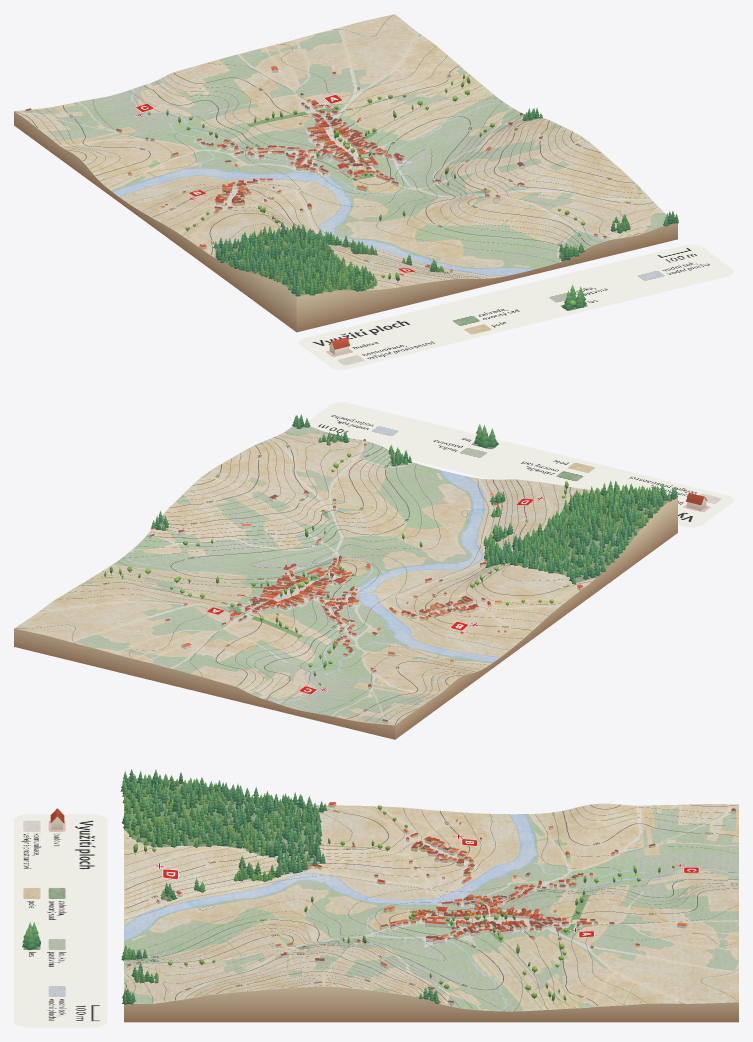
File: Frymburk_sada2_otazka2.glb
The picture shows the model from 3 angles, top to bottom: view 1: azimuth 30°, elevation 25°; view 2: azimuth 150°, elevation 25°; view 3: azimuth 270°, elevation 25°; orthographic projection. The views are drawn at different scales.
Parts seen in each view (by area): view 1: DMR_SMO5, legenda_panel, stromy_SMO5, vrstevnice, budovy_SMO5, legenda_objekty; view 2: DMR_SMO5, legenda_panel, stromy_SMO5, vrstevnice, budovy_SMO5, legenda_objekty; view 3: DMR_SMO5, legenda_panel, stromy_SMO5, vrstevnice, budovy_SMO5, legenda_objekty.
Boxes of the visible parts, left/top/right/bottom form: DMR_SMO5: left=14, top=14, right=677, bottom=332; legenda_panel: left=299, top=244, right=733, bottom=369; stromy_SMO5: left=147, top=74, right=678, bottom=296; vrstevnice: left=15, top=15, right=661, bottom=293; budovy_SMO5: left=25, top=66, right=607, bottom=272; legenda_objekty: left=329, top=284, right=586, bottom=354; DMR_SMO5: left=14, top=425, right=677, bottom=739; legenda_panel: left=304, top=402, right=733, bottom=527; stromy_SMO5: left=104, top=414, right=677, bottom=685; vrstevnice: left=16, top=430, right=654, bottom=724; budovy_SMO5: left=149, top=439, right=583, bottom=723; legenda_objekty: left=474, top=424, right=707, bottom=510; DMR_SMO5: left=124, top=779, right=738, bottom=1022; legenda_panel: left=14, top=814, right=107, bottom=1027; stromy_SMO5: left=120, top=769, right=674, bottom=1004; vrstevnice: left=124, top=781, right=737, bottom=1010; budovy_SMO5: left=126, top=802, right=735, bottom=1005; legenda_objekty: left=22, top=808, right=64, bottom=950.
Bounding box in the file's own units: 1490 × 187 × 2140.
Materials: 13 (7 with a texture image).
